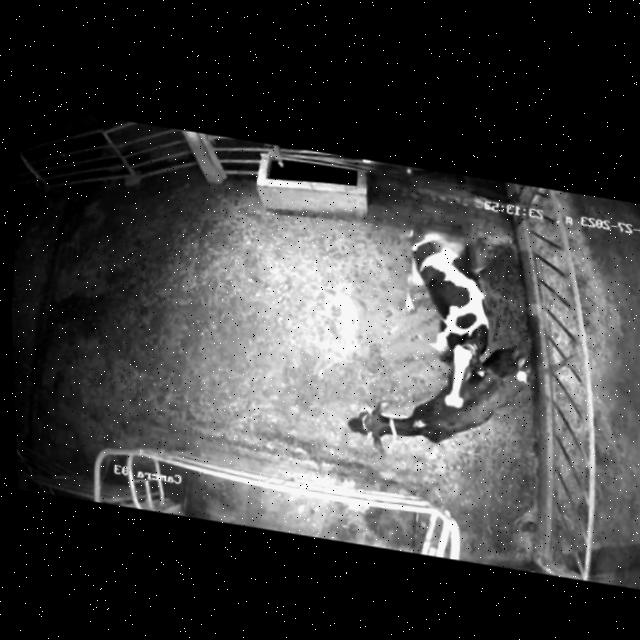propping: (426, 326, 501, 436)
stand: (332, 320, 542, 485)
